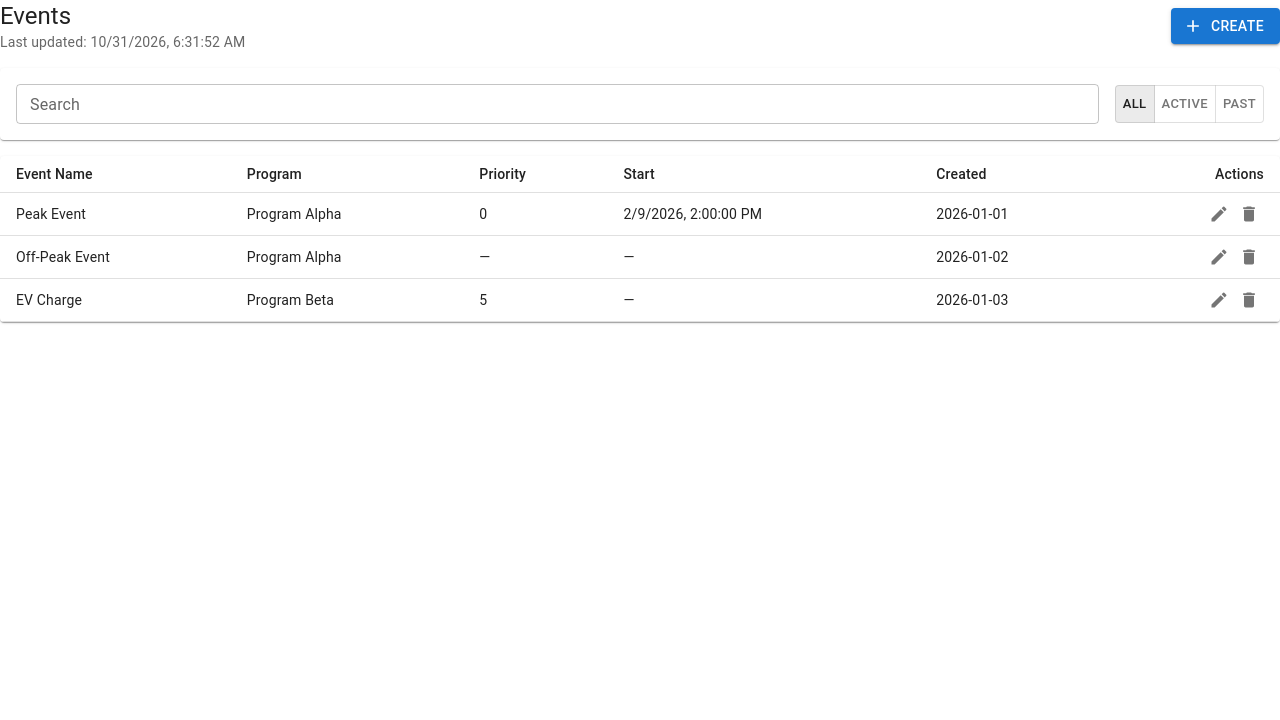
Test: EventsPage › opens edit dialog with pre-filled data
Click the button with test id "edit-event-e1" at (1219, 214), box [1204,199,1234,229]
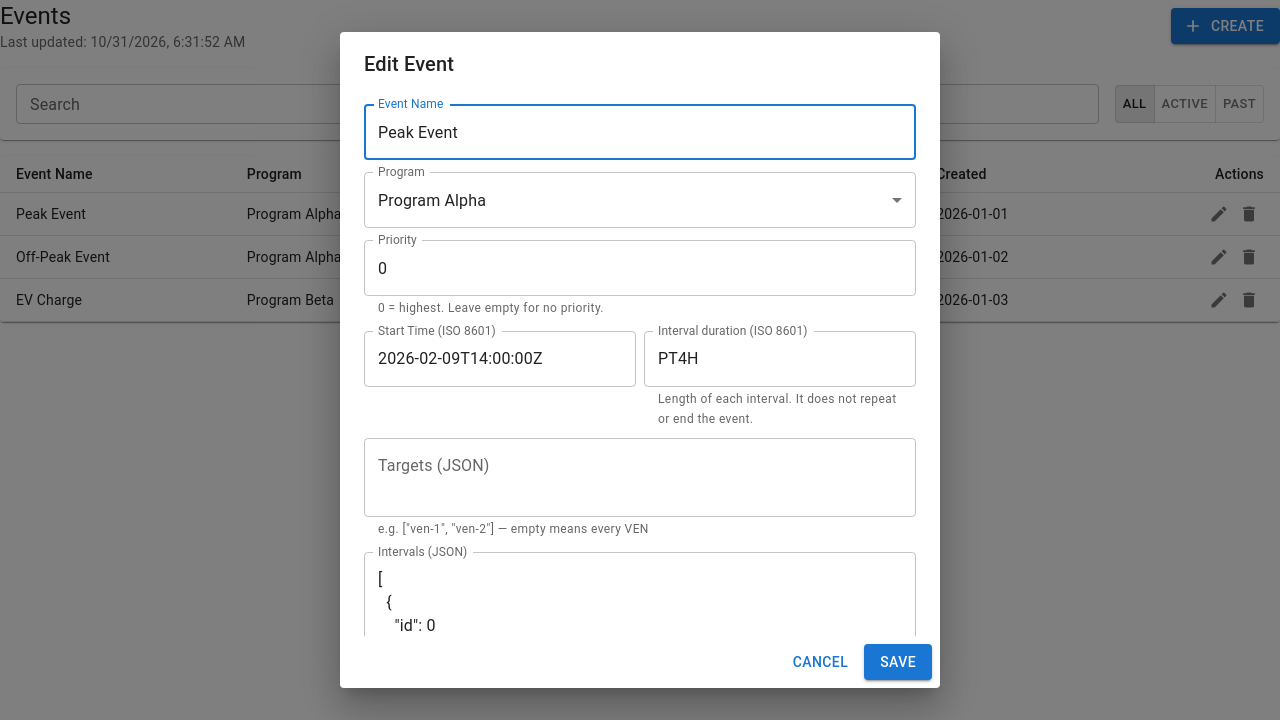
Now the field with test id "event-name-input" holds "Peak Event", box [364,104,916,160]
